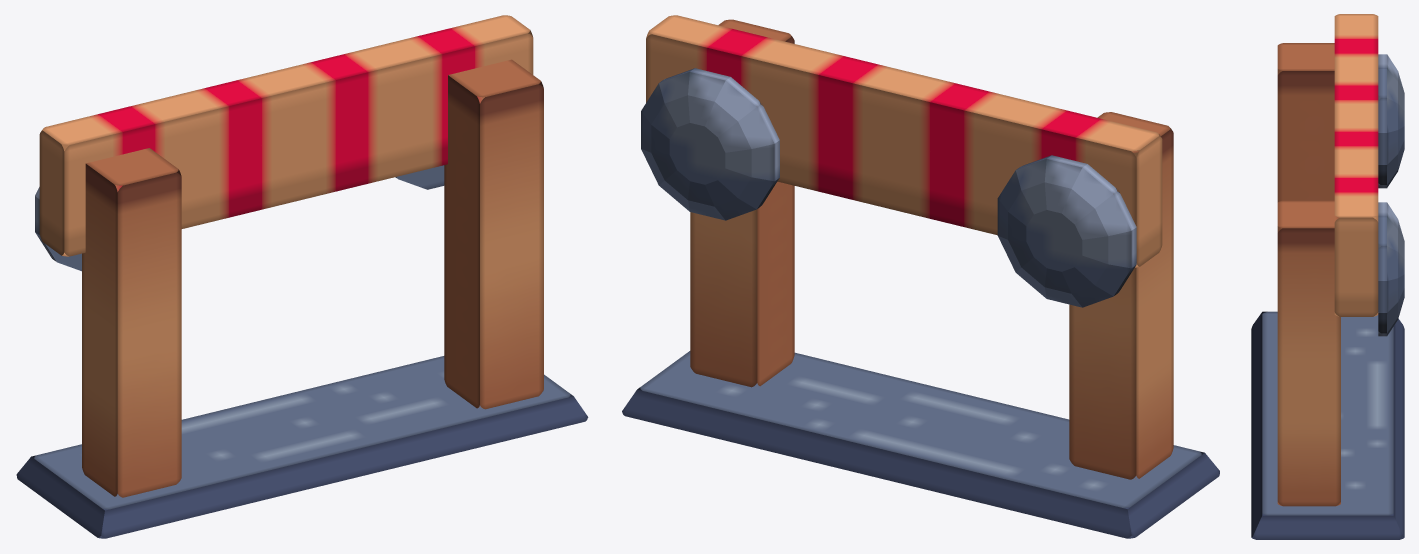
File: BangChanGiua.fbx
3 views of the same model, side by side, from view 1: azimuth 30°, elevation 25°; view 2: azimuth 150°, elevation 25°; view 3: azimuth 270°, elevation 25° (orthographic). The views are drawn at different scales.
Visible parts, largest first — view 1: cuboid, cuboid_2, cuboid_1, cylinder_1; view 2: cuboid_2, cuboid_1, cuboid, cylinder, cylinder_1; view 3: cuboid, cuboid_1, cuboid_2, cylinder_1, cylinder.
Part boxes in pixels (x1=…): cuboid: x1=82, y1=59, x2=543, y2=497; cuboid_2: x1=39, y1=15, x2=533, y2=256; cuboid_1: x1=16, y1=356, x2=588, y2=538; cylinder_1: x1=395, y1=165, x2=444, y2=189; cuboid_2: x1=646, y1=15, x2=1162, y2=267; cuboid_1: x1=622, y1=351, x2=1219, y2=538; cuboid: x1=690, y1=19, x2=1173, y2=479; cylinder: x1=997, y1=155, x2=1136, y2=307; cylinder_1: x1=641, y1=68, x2=779, y2=220; cuboid: x1=1277, y1=43, x2=1340, y2=506; cuboid_1: x1=1251, y1=311, x2=1404, y2=539; cuboid_2: x1=1334, y1=14, x2=1378, y2=316; cylinder_1: x1=1378, y1=202, x2=1404, y2=336; cylinder: x1=1378, y1=54, x2=1404, y2=188.
Size of the model in its own units: 144 by 100 by 43.75.
1 material, 1 textured.
